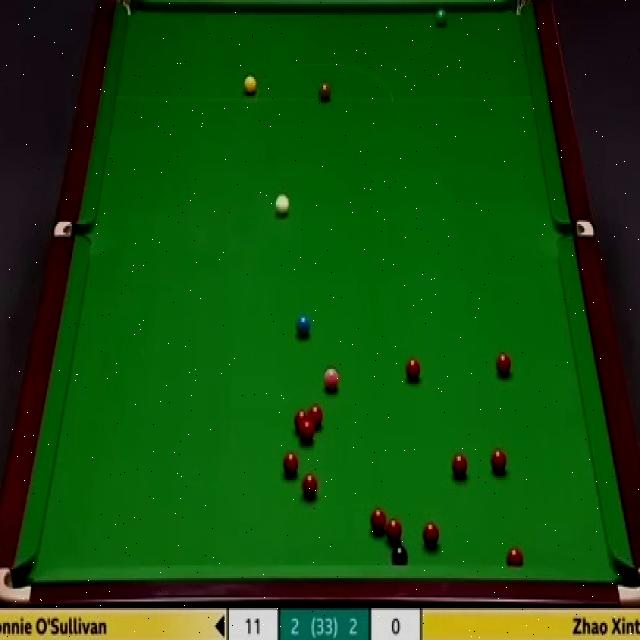black-ball: (390, 544, 409, 568)
blue-ball: (294, 314, 311, 340)
brown-ball: (316, 79, 332, 104)
green-ball: (433, 7, 449, 28)
pink-ball: (323, 363, 340, 392)
red-ball: (385, 516, 403, 548), (405, 355, 423, 385), (301, 473, 319, 503), (421, 521, 439, 550), (490, 447, 507, 475), (370, 506, 387, 534), (284, 450, 301, 477), (496, 350, 512, 378), (308, 405, 324, 431), (451, 454, 467, 479), (507, 545, 524, 567), (294, 409, 308, 431), (300, 422, 314, 443)
white-ball: (273, 191, 291, 219)
yellow-ball: (241, 74, 257, 95)
